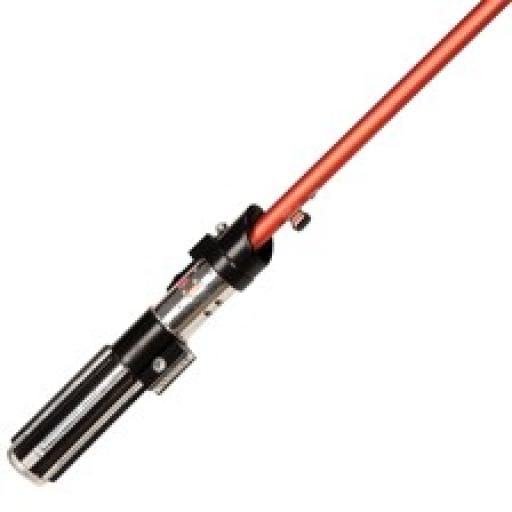lightsaber: (11, 2, 512, 482)
